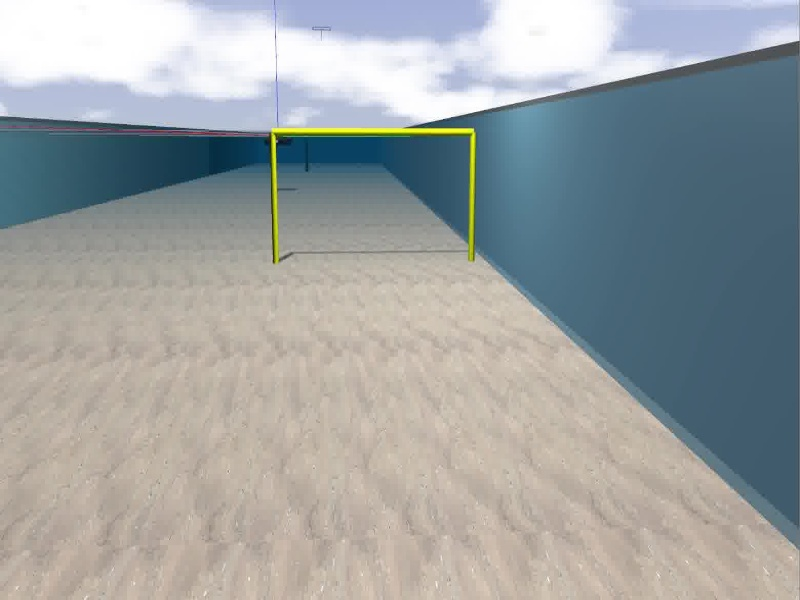gate: (268, 127, 481, 265)
